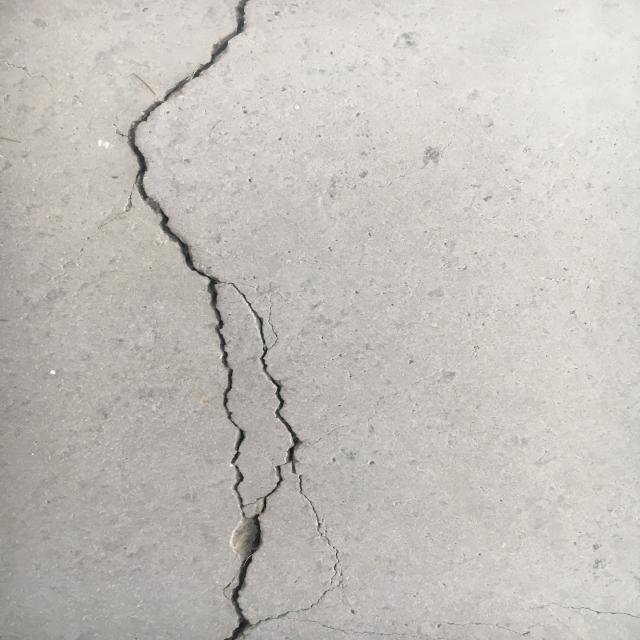Rachadura: (130, 0, 337, 640)
